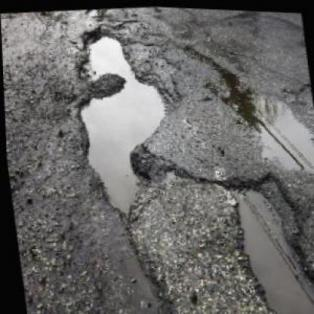Hueco: (64, 16, 182, 222)
